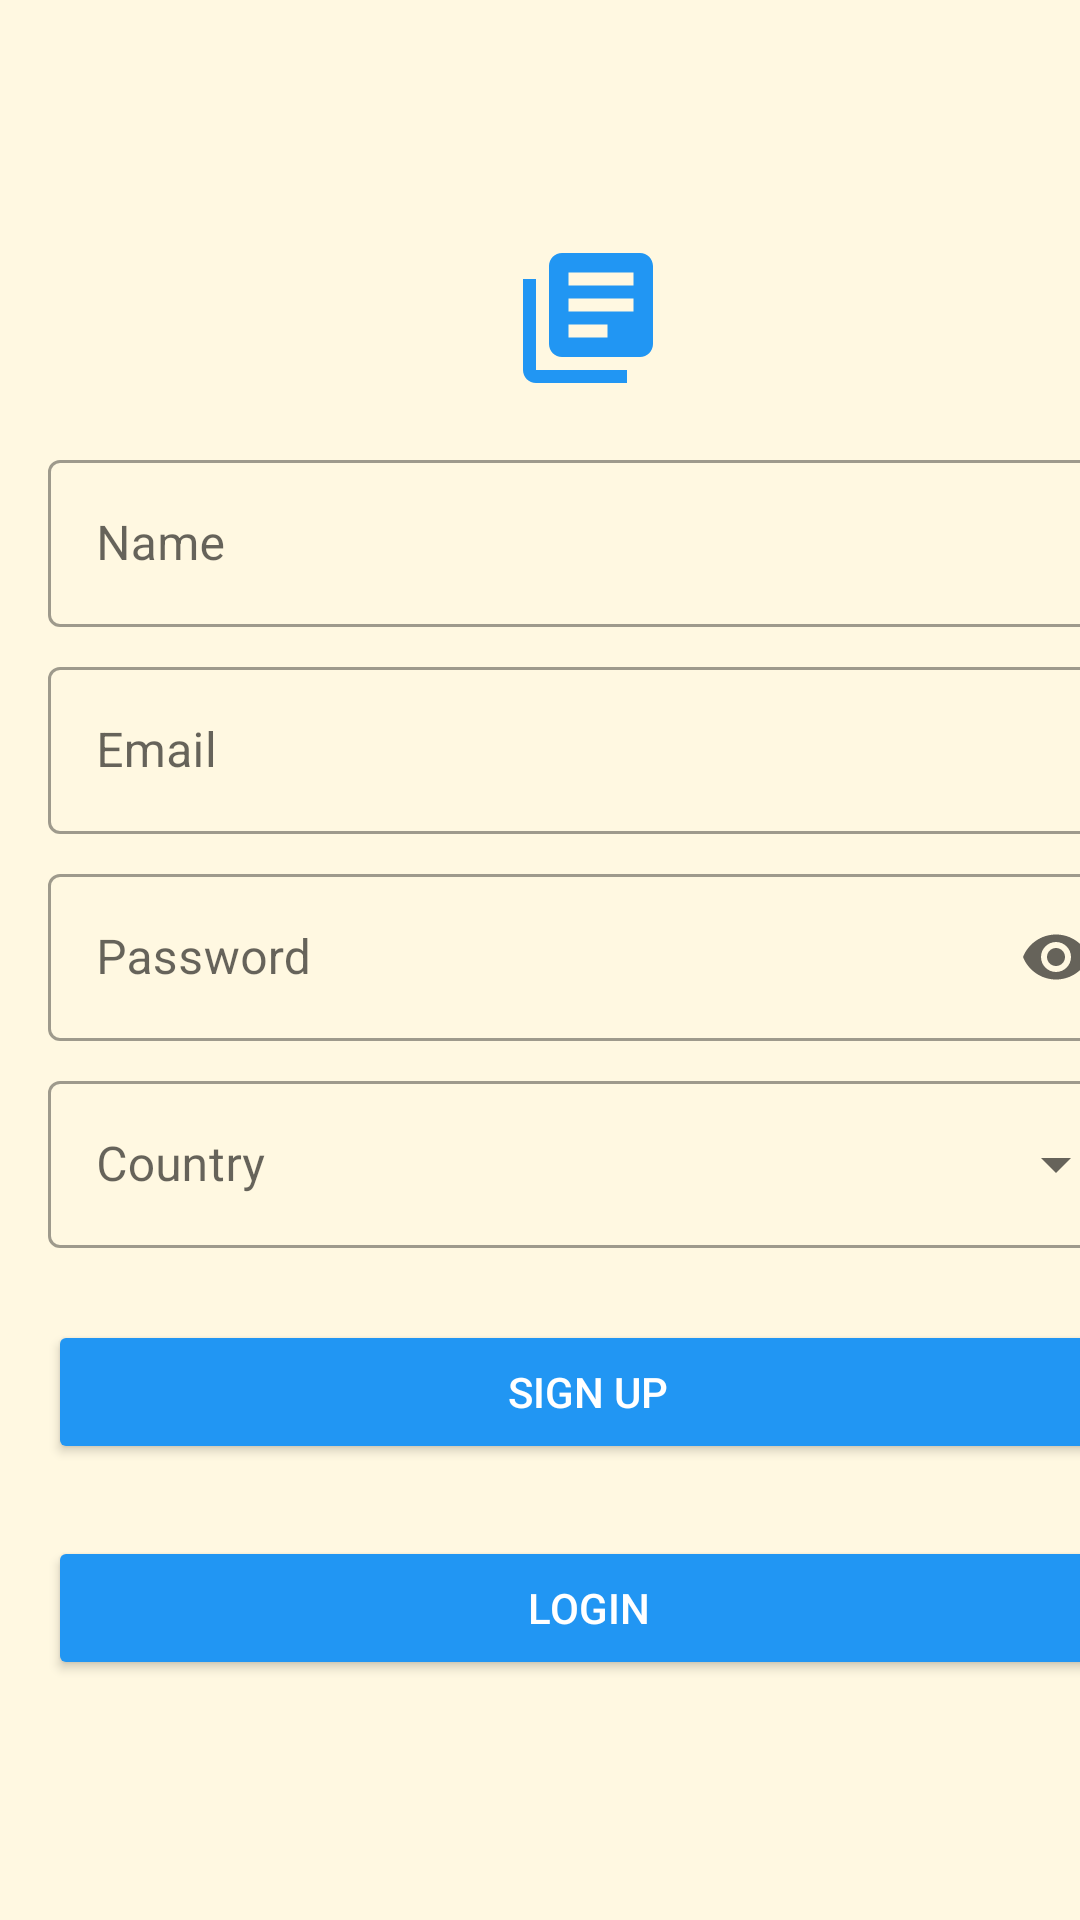

Where to tap for icons on this 1080 x 1920 app screen, as (x=x, y=y):
library books: (x=588, y=318)
